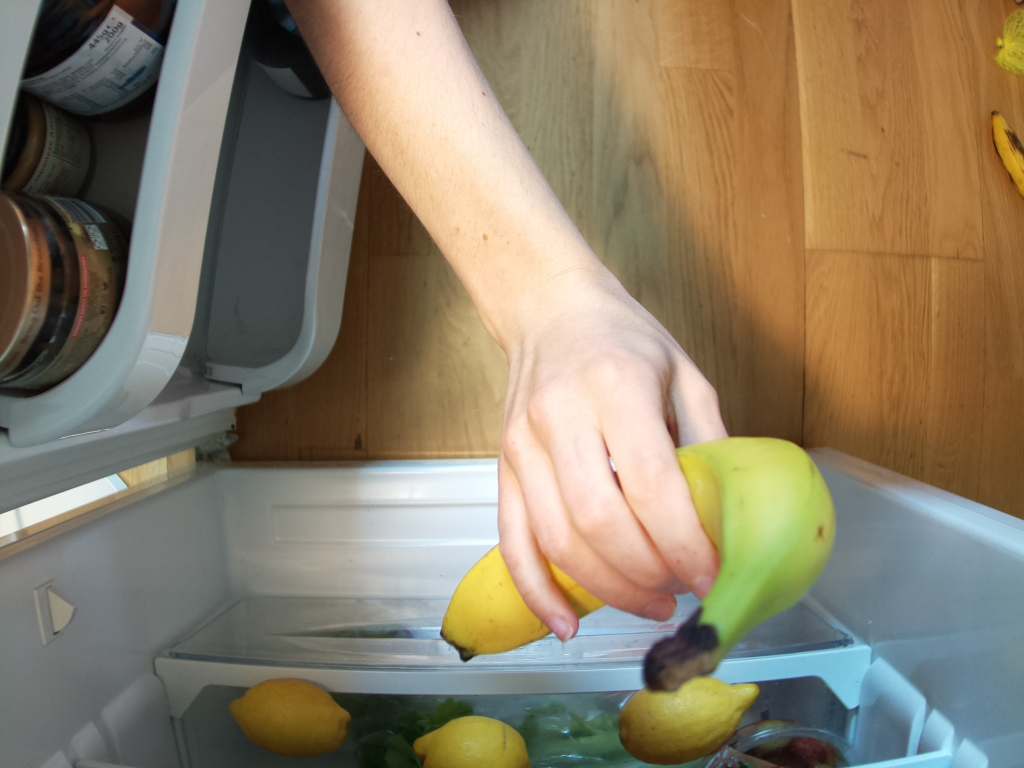banana-unripe: (442, 431, 845, 694)
